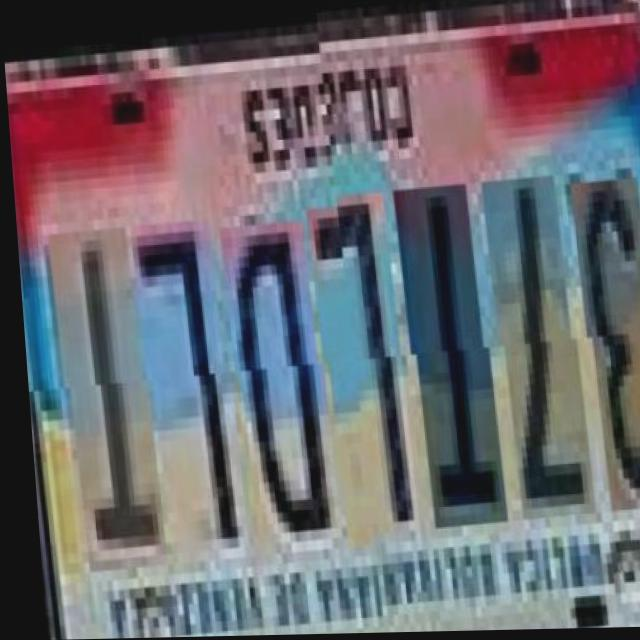3: (571, 180, 640, 513)
7: (481, 176, 585, 520)
d: (218, 206, 330, 539)
l: (304, 188, 413, 533), (129, 202, 238, 547)
t: (46, 207, 155, 552), (393, 182, 497, 525)
